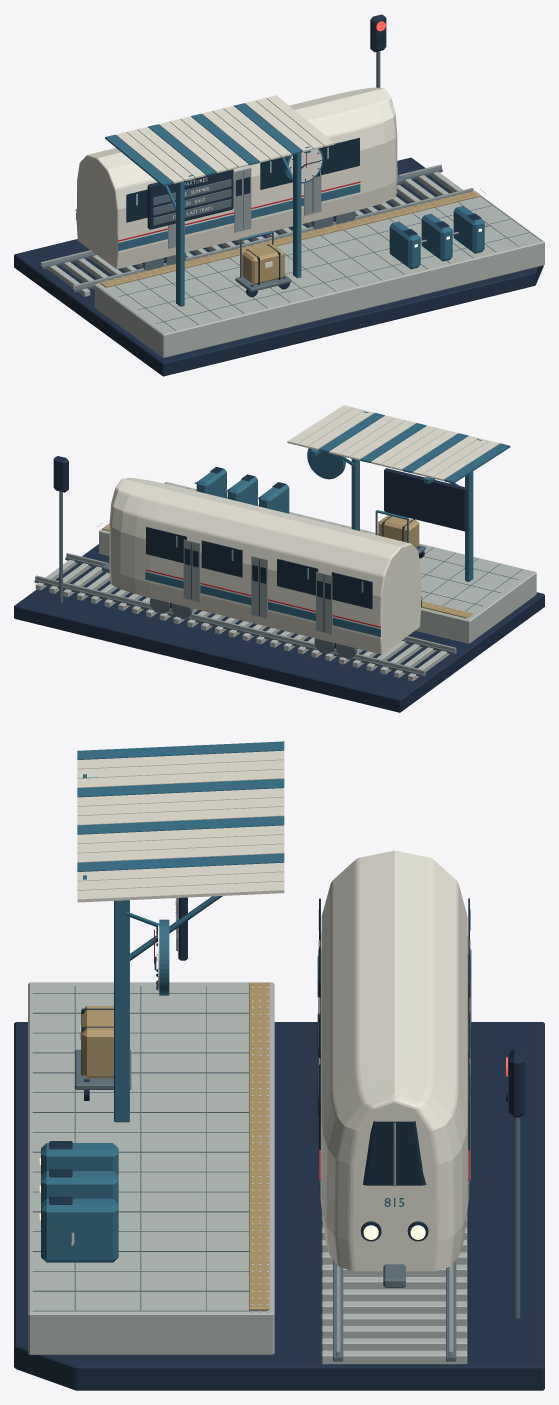
Rendered from departure-platform-v7.glb.
3 views of the same model, one above another, from view 1: azimuth 30°, elevation 25°; view 2: azimuth 150°, elevation 25°; view 3: azimuth 270°, elevation 25° (orthographic). The views are drawn at different scales.
Visible parts, largest first — view 1: Station_Platform, Station_TrainShell, Station_Foundation, Station_Canopy, Station_TicketGates, Station_Timetable, Station_Sleepers, Station_TactileEdge, Station_CanopySupports, Station_TrainWindows, Station_Rails, Station_TrainBelt (+7 smaller); view 2: Station_TrainShell, Station_Foundation, Station_Canopy, Station_Platform, Station_Sleepers, Station_TrainWindows, Station_Timetable, Station_Rails, Station_TrainDoors, Station_TicketGates, Station_TrainBelt, Station_CanopySupports (+6 smaller); view 3: Station_Platform, Station_Foundation, Station_TrainShell, Station_Canopy, Station_Sleepers, Station_TicketGates, Station_TactileEdge, Station_Paving, Station_CanopySupports, Station_Windshield, Station_RailSignal, Station_Luggage (+6 smaller).
Part boxes in pixels (left/top/right/bottom): Station_Platform: left=94, top=195, right=544, bottom=357; Station_TrainShell: left=76, top=87, right=397, bottom=268; Station_Foundation: left=14, top=157, right=543, bottom=376; Station_Canopy: left=105, top=95, right=334, bottom=186; Station_TicketGates: left=389, top=206, right=490, bottom=269; Station_Timetable: left=147, top=169, right=233, bottom=229; Station_Sleepers: left=47, top=171, right=462, bottom=296; Station_TactileEdge: left=100, top=191, right=480, bottom=287; Station_CanopySupports: left=164, top=146, right=310, bottom=306; Station_TrainWindows: left=126, top=137, right=359, bottom=222; Station_Rails: left=39, top=164, right=473, bottom=292; Station_TrainBelt: left=75, top=181, right=360, bottom=250; Station_TrainShell: left=109, top=478, right=420, bottom=654; Station_Foundation: left=14, top=544, right=544, bottom=712; Station_Canopy: left=287, top=405, right=510, bottom=483; Station_Platform: left=99, top=482, right=536, bottom=643; Station_Sleepers: left=35, top=560, right=449, bottom=681; Station_TrainWindows: left=146, top=527, right=372, bottom=609; Station_Timetable: left=384, top=468, right=467, bottom=531; Station_Rails: left=34, top=553, right=456, bottom=677; Station_TrainDoors: left=183, top=539, right=332, bottom=634; Station_TicketGates: left=194, top=467, right=289, bottom=513; Station_TrainBelt: left=145, top=569, right=421, bottom=636; Station_CanopySupports: left=310, top=411, right=481, bottom=581; Station_Platform: left=28, top=982, right=274, bottom=1354; Station_Foundation: left=14, top=1022, right=544, bottom=1390; Station_TrainShell: left=320, top=850, right=468, bottom=1271; Station_Canopy: left=77, top=741, right=284, bottom=902; Station_Sleepers: left=321, top=1211, right=467, bottom=1364; Station_TicketGates: left=39, top=1141, right=118, bottom=1262; Station_TactileEdge: left=249, top=982, right=269, bottom=1310; Station_Paving: left=32, top=986, right=267, bottom=1311; Station_CanopySupports: left=83, top=774, right=222, bottom=1122; Station_Windshield: left=363, top=1121, right=426, bottom=1186; Station_RailSignal: left=508, top=1048, right=524, bottom=1318; Station_Luggage: left=80, top=1006, right=113, bottom=1078.
Size of the model in its own units: 17.55 by 7.52 by 11.3.
